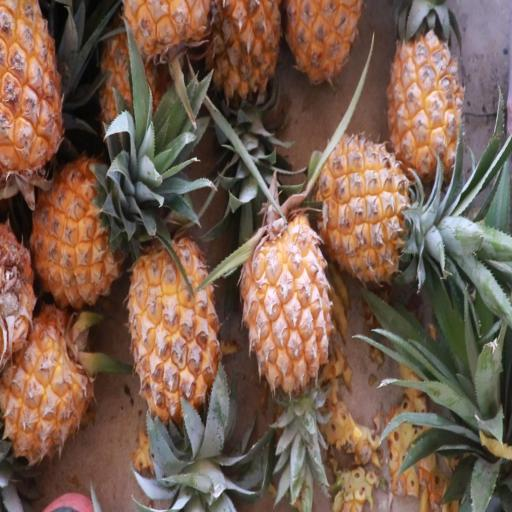Pineapple - v8 v1: (238, 208, 339, 412), (122, 232, 223, 435), (318, 125, 430, 289), (2, 291, 98, 466), (384, 2, 464, 200), (29, 152, 123, 320)
